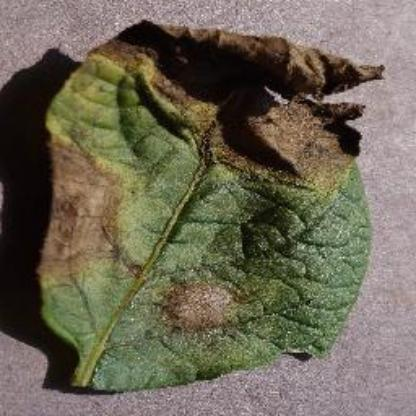Late-Blight: (20, 12, 390, 402)
